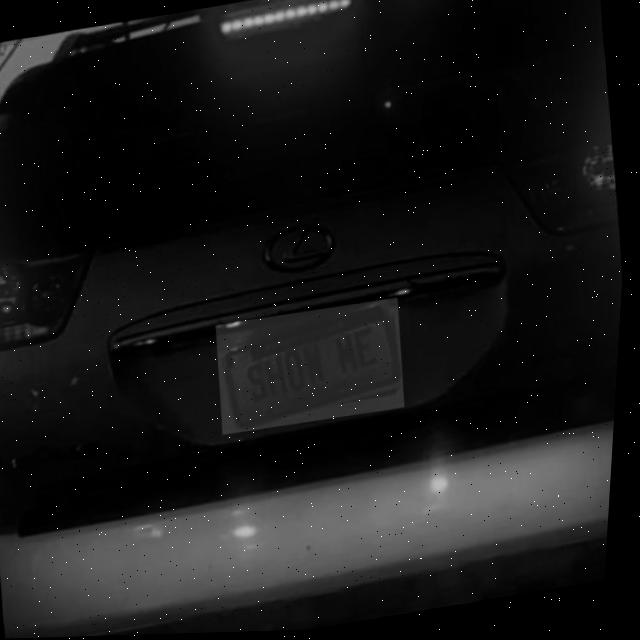LicensePlate: (222, 302, 408, 434)
